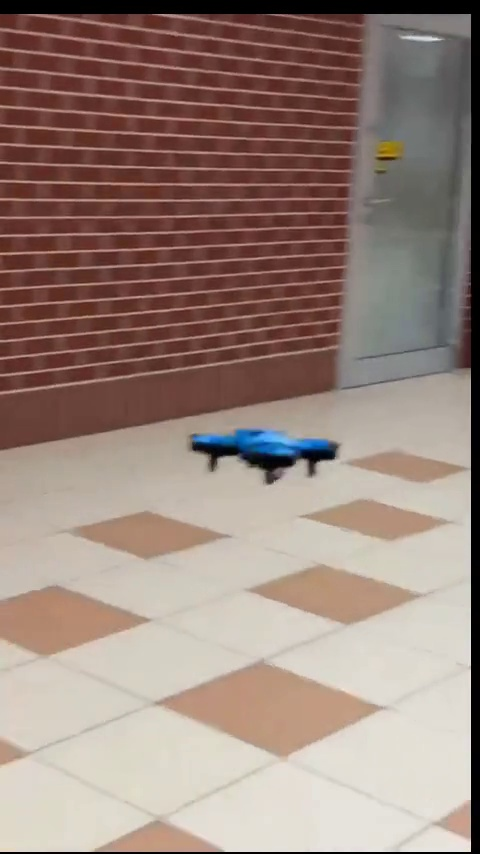drone: (180, 428, 342, 483)
